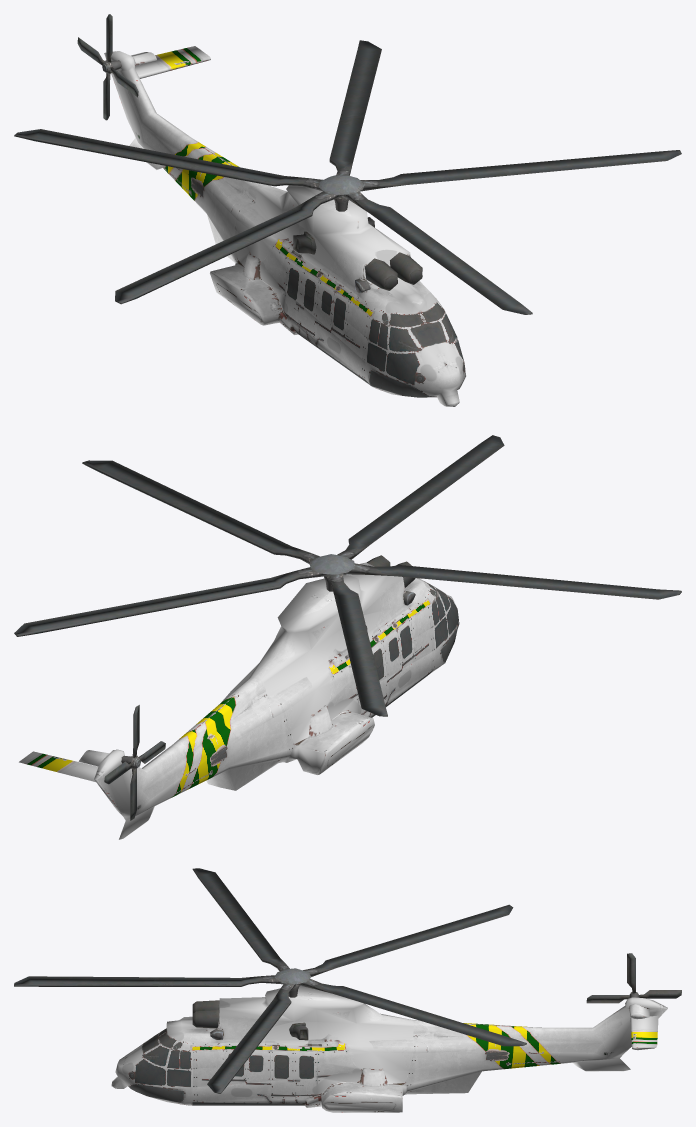
Rendered from helicopter_final.glb.
The picture shows the model from 3 angles, top to bottom: view 1: azimuth 30°, elevation 25°; view 2: azimuth 150°, elevation 25°; view 3: azimuth 270°, elevation 25°; orthographic projection. The views are drawn at different scales.
Parts seen in each view (by area): view 1: helicopter.002, Prop_helicoterbiggood_ChopChop_TOP_helicopterbig_Material.00, helicopter.013, helicopter.001, Prop_helicoterbiggood_ChopChop_BACK_helicopterbig_Material.0, helicopter.012, helicopter.008, helicopter.009; view 2: helicopter.002, Prop_helicoterbiggood_ChopChop_TOP_helicopterbig_Material.00, helicopter.013, helicopter.001, Prop_helicoterbiggood_ChopChop_BACK_helicopterbig_Material.0, helicopter.012; view 3: helicopter.002, Prop_helicoterbiggood_ChopChop_TOP_helicopterbig_Material.00, helicopter.013, helicopter, Prop_helicoterbiggood_ChopChop_BACK_helicopterbig_Material.0, helicopter.012, helicopter.009.
Part boxes in pixels (x1,y1,x2,y2): helicopter.002: [237, 185, 465, 406]; Prop_helicoterbiggood_ChopChop_TOP_helicopterbig_Material.00: [14, 40, 681, 314]; helicopter.013: [104, 51, 269, 263]; helicopter.001: [210, 253, 298, 334]; Prop_helicoterbiggood_ChopChop_BACK_helicopterbig_Material.0: [77, 14, 138, 120]; helicopter.012: [135, 46, 210, 78]; helicopter.008: [365, 258, 397, 290]; helicopter.009: [390, 252, 422, 284]; helicopter.002: [231, 562, 459, 762]; Prop_helicoterbiggood_ChopChop_TOP_helicopterbig_Material.00: [14, 435, 681, 716]; helicopter.013: [94, 677, 294, 839]; helicopter.001: [288, 705, 374, 774]; Prop_helicoterbiggood_ChopChop_BACK_helicopterbig_Material.0: [104, 705, 165, 820]; helicopter.012: [19, 751, 98, 781]; helicopter.002: [111, 985, 413, 1107]; Prop_helicoterbiggood_ChopChop_TOP_helicopterbig_Material.00: [14, 868, 526, 1093]; helicopter.013: [405, 997, 667, 1094]; helicopter: [305, 1068, 406, 1112]; Prop_helicoterbiggood_ChopChop_BACK_helicopterbig_Material.0: [586, 953, 681, 1003]; helicopter.012: [630, 1015, 658, 1050]; helicopter.009: [192, 1010, 219, 1028].
Size of the model in its own units: 15.24 by 4.23 by 19.13.
Materials: 1 (1 with a texture image).
